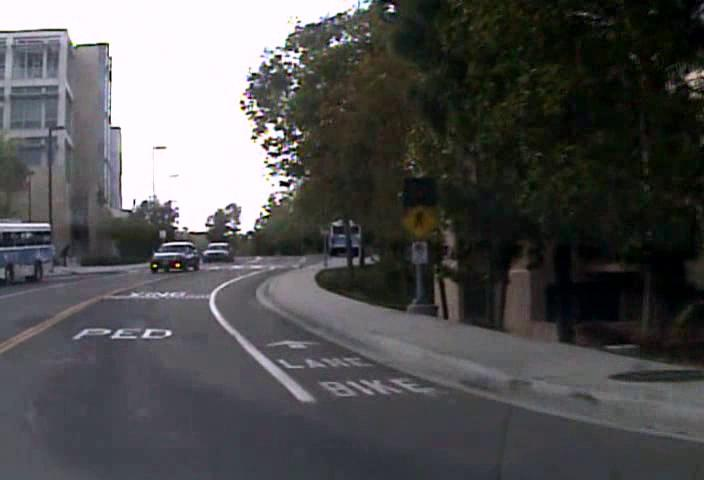pedestrianCrossing: (399, 202, 437, 238)
